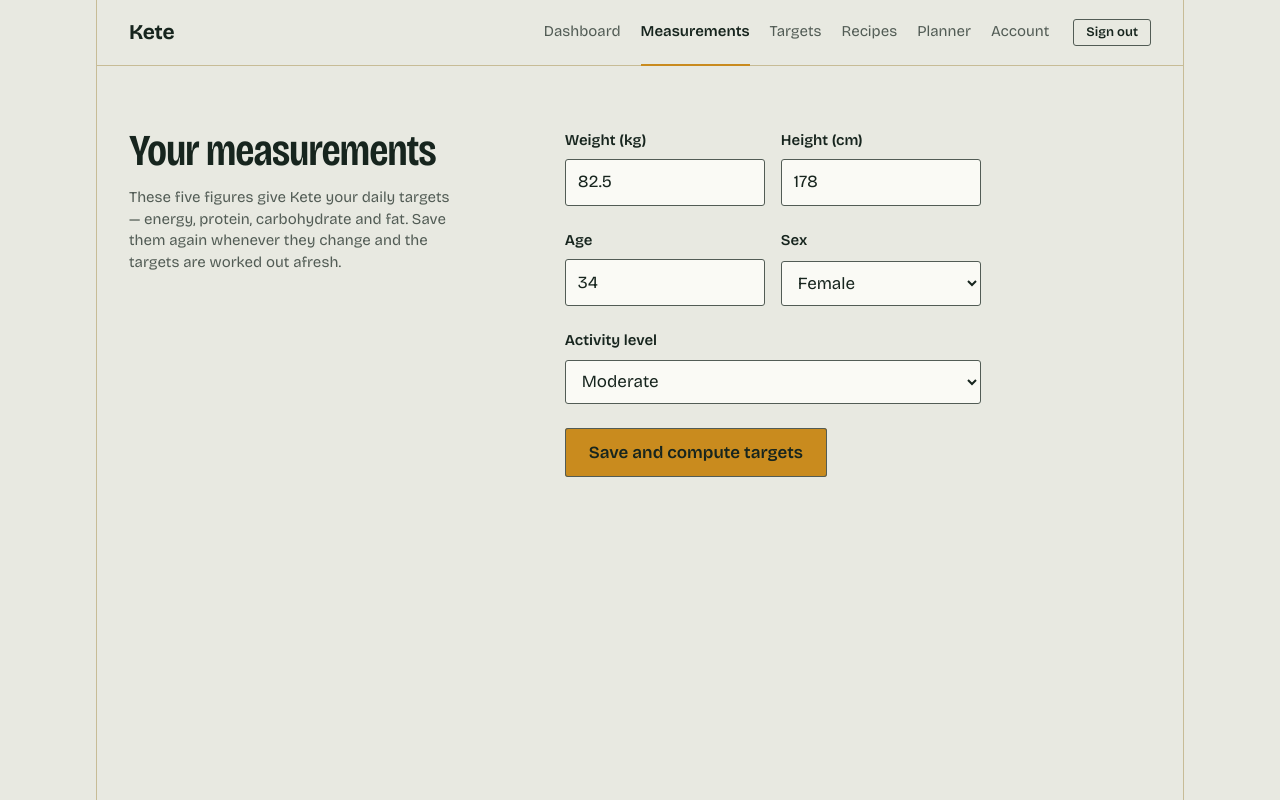
Test case: the measurements form refused by the write › shows a 422 above the form with the typed values intact
Replace the text in the number field labelled "Weight (kg)" with "90.5": (665, 182) [565,159,765,206]
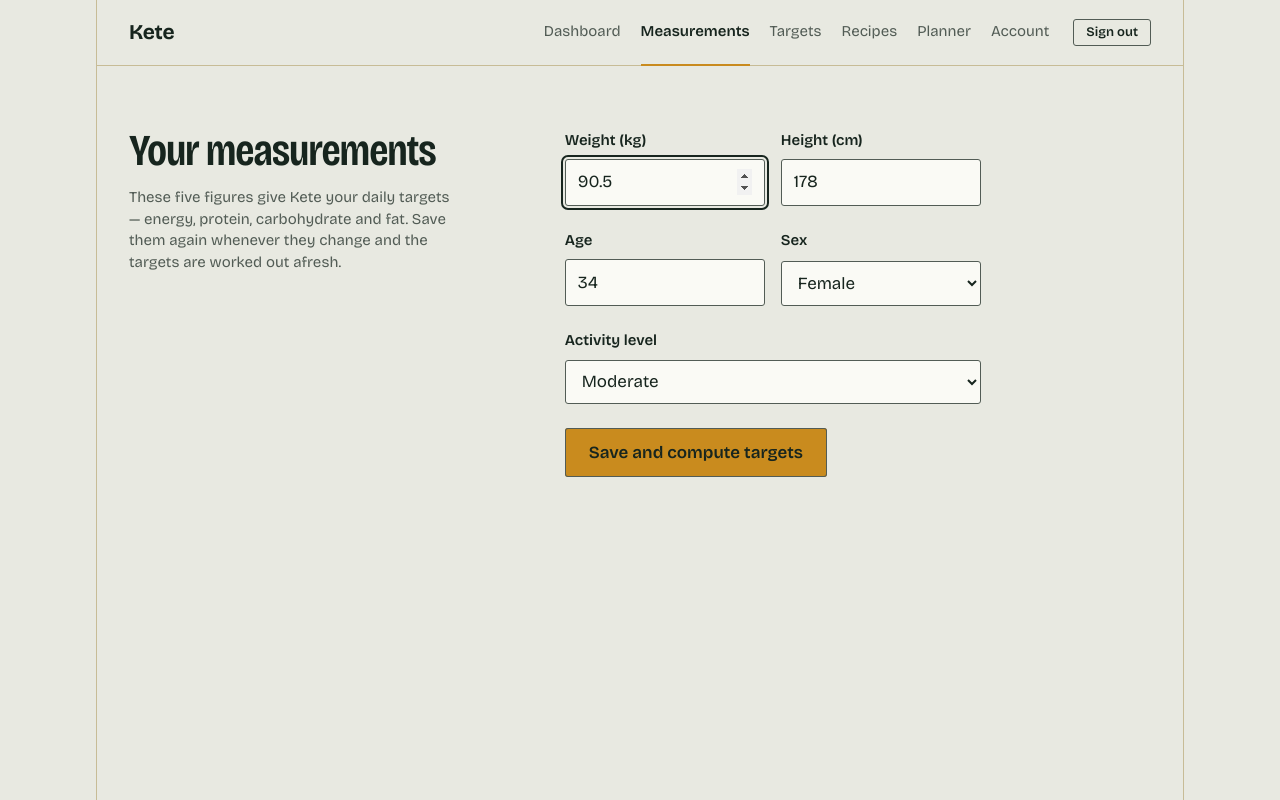
Click the button "Save and compute targets": (696, 452) [565,428,827,477]
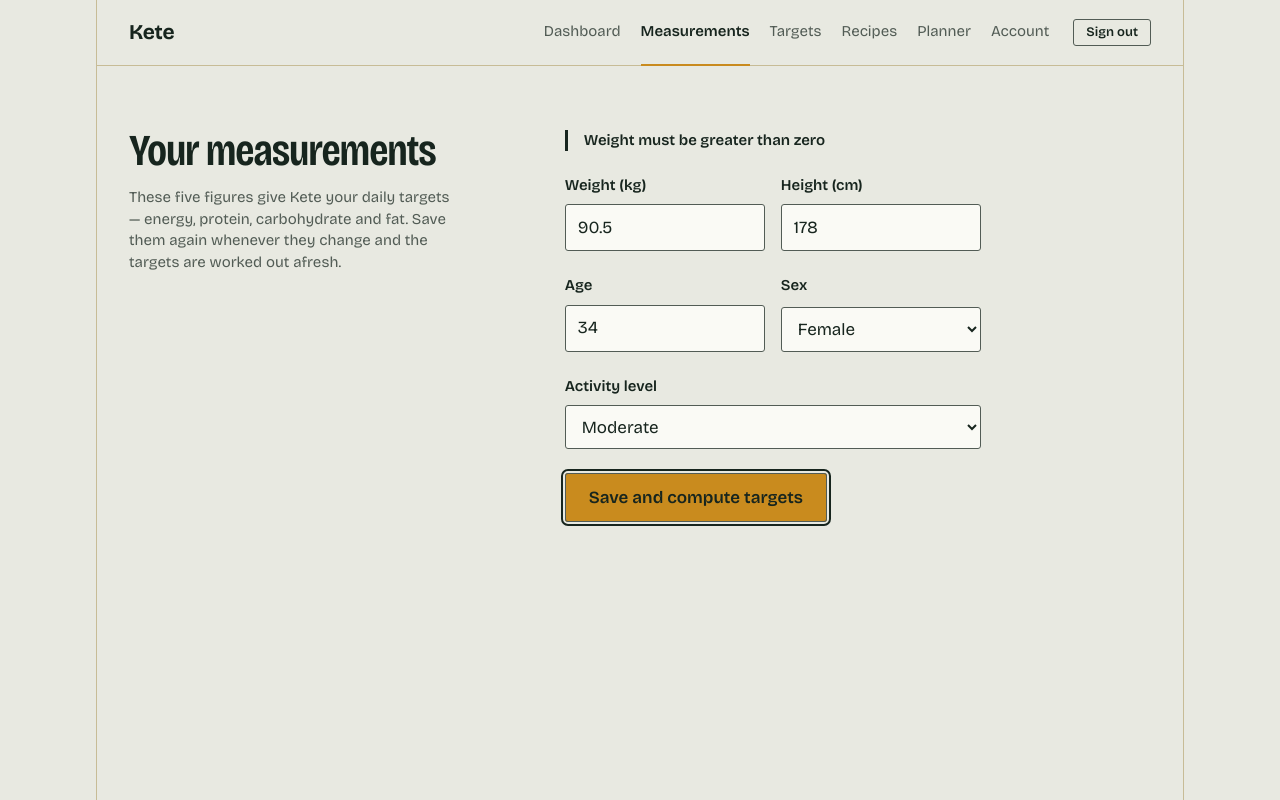
Expected: the number field labelled "Age" holds "34", [565,305,765,352]
Expected: the message reads "Weight must be greater than zero", [584,130,825,148]
